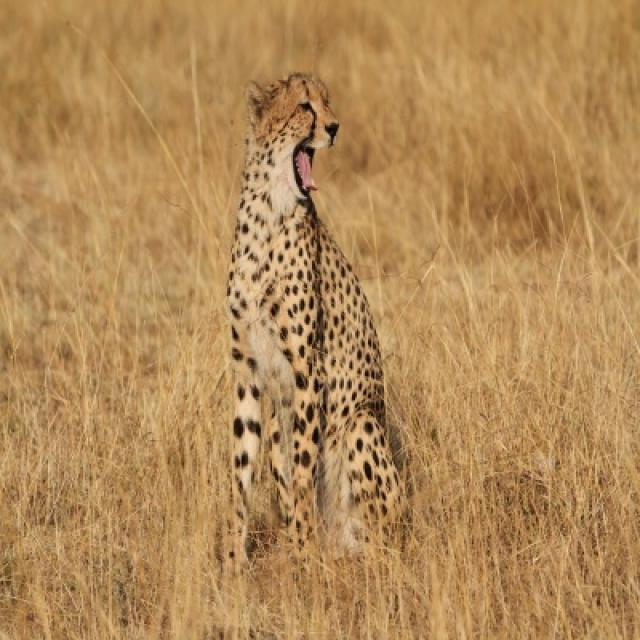Cheetah: (227, 74, 403, 558)
